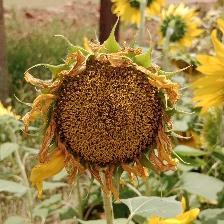sunflower: (20, 15, 202, 204)
